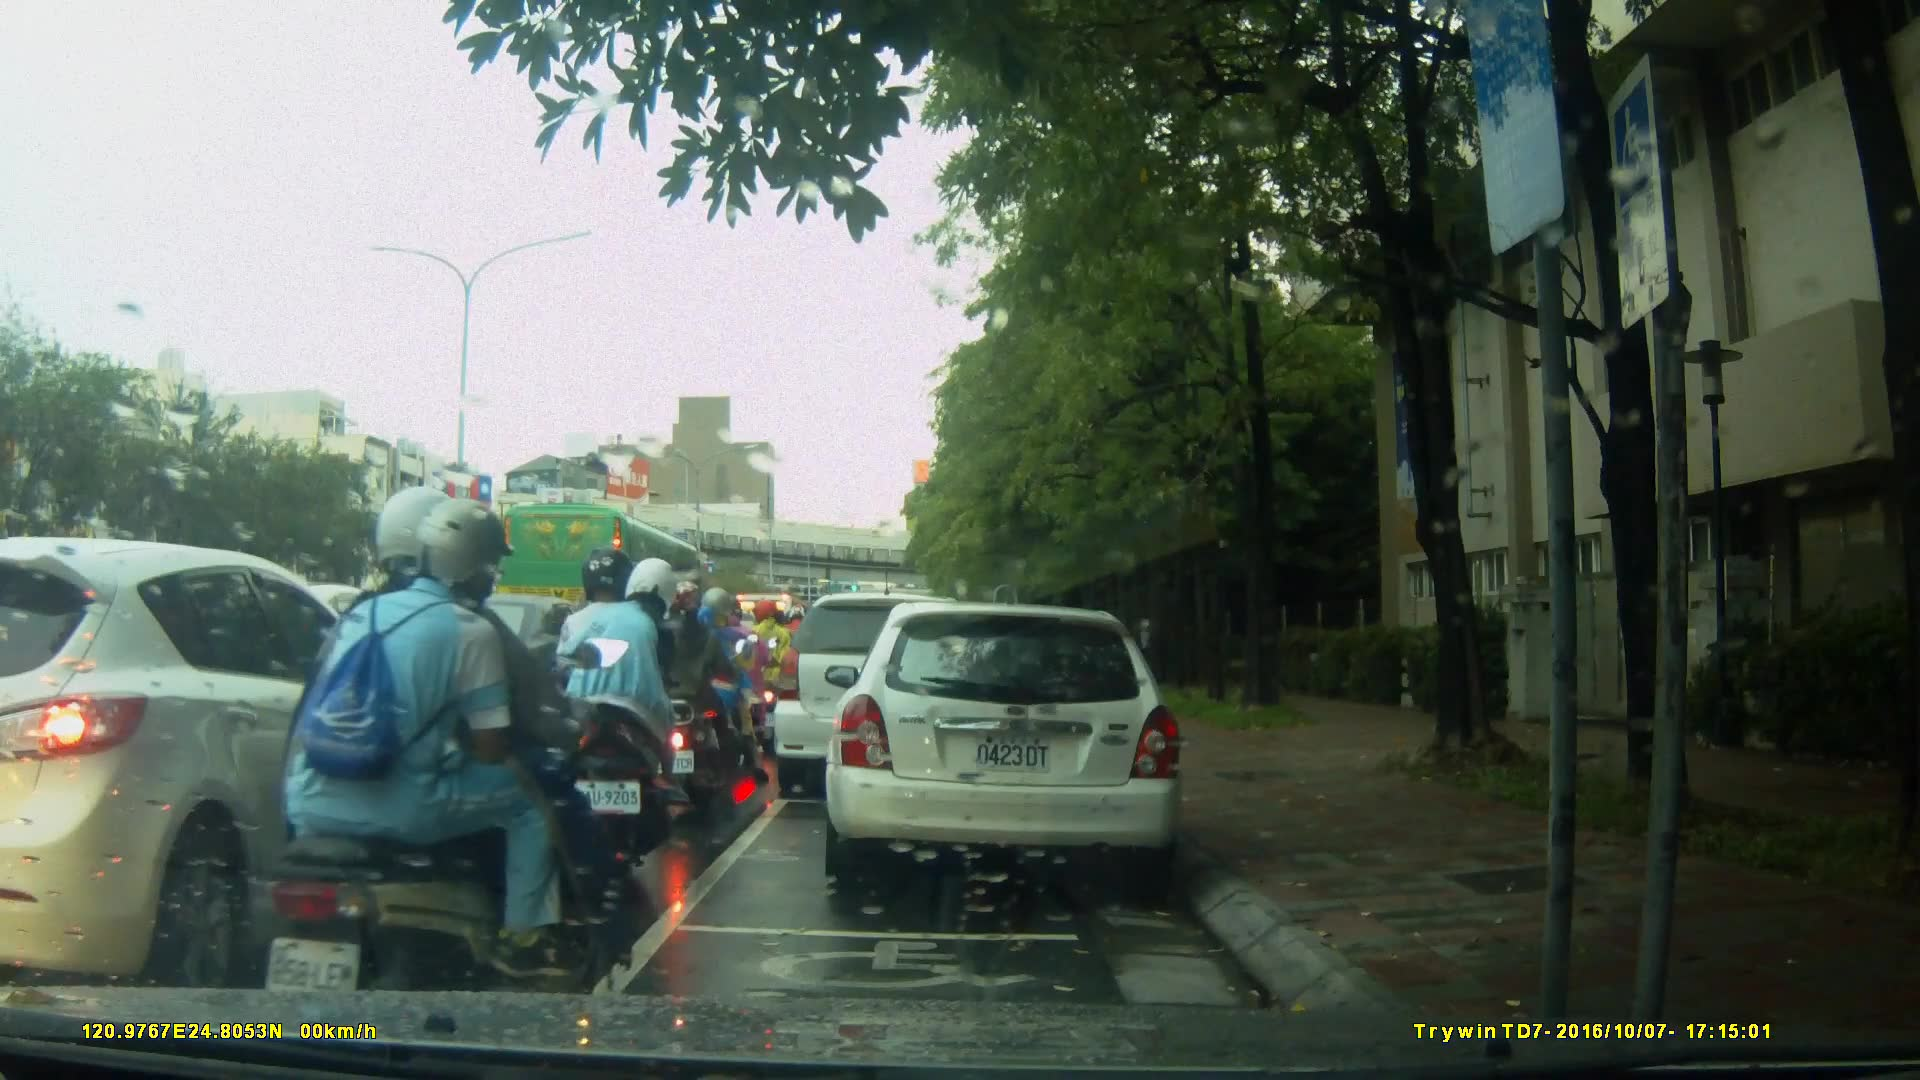rider: (260, 483, 638, 1050), (557, 550, 709, 882), (648, 580, 724, 808), (684, 589, 766, 778), (702, 598, 775, 764), (749, 598, 797, 737)
vehicle: (3, 536, 461, 987), (831, 592, 1196, 897), (312, 589, 629, 776), (772, 590, 999, 803), (496, 501, 711, 636)
